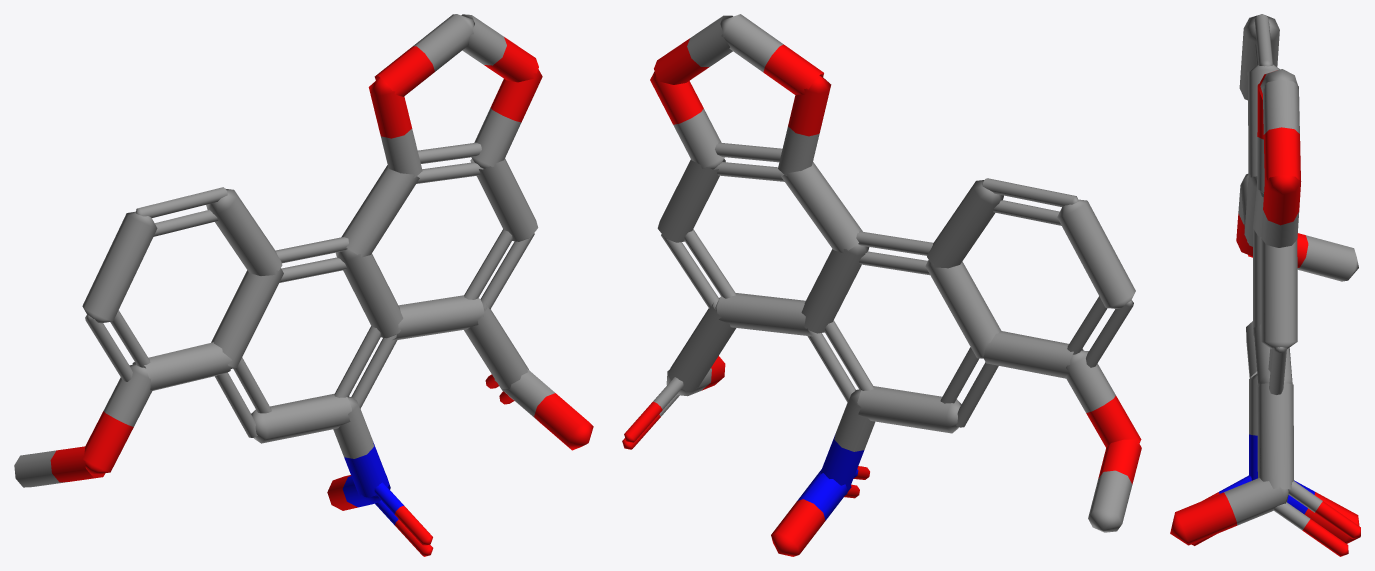
Rendered from aristo.glb.
3 renders of one model, left to right at view 1: azimuth 30°, elevation 25°; view 2: azimuth 150°, elevation 25°; view 3: azimuth 270°, elevation 25°, orthographic. The views are drawn at different scales.
Visible parts, largest first — view 1: node-geom0; view 2: node-geom0; view 3: node-geom0.
Boxes of the visible parts, <box> form: node-geom0: <box>14,14,593,556</box>; node-geom0: <box>622,14,1141,556</box>; node-geom0: <box>1170,14,1360,556</box>.
Bounding box in the file's own units: 8.32 × 7.87 × 2.63.
